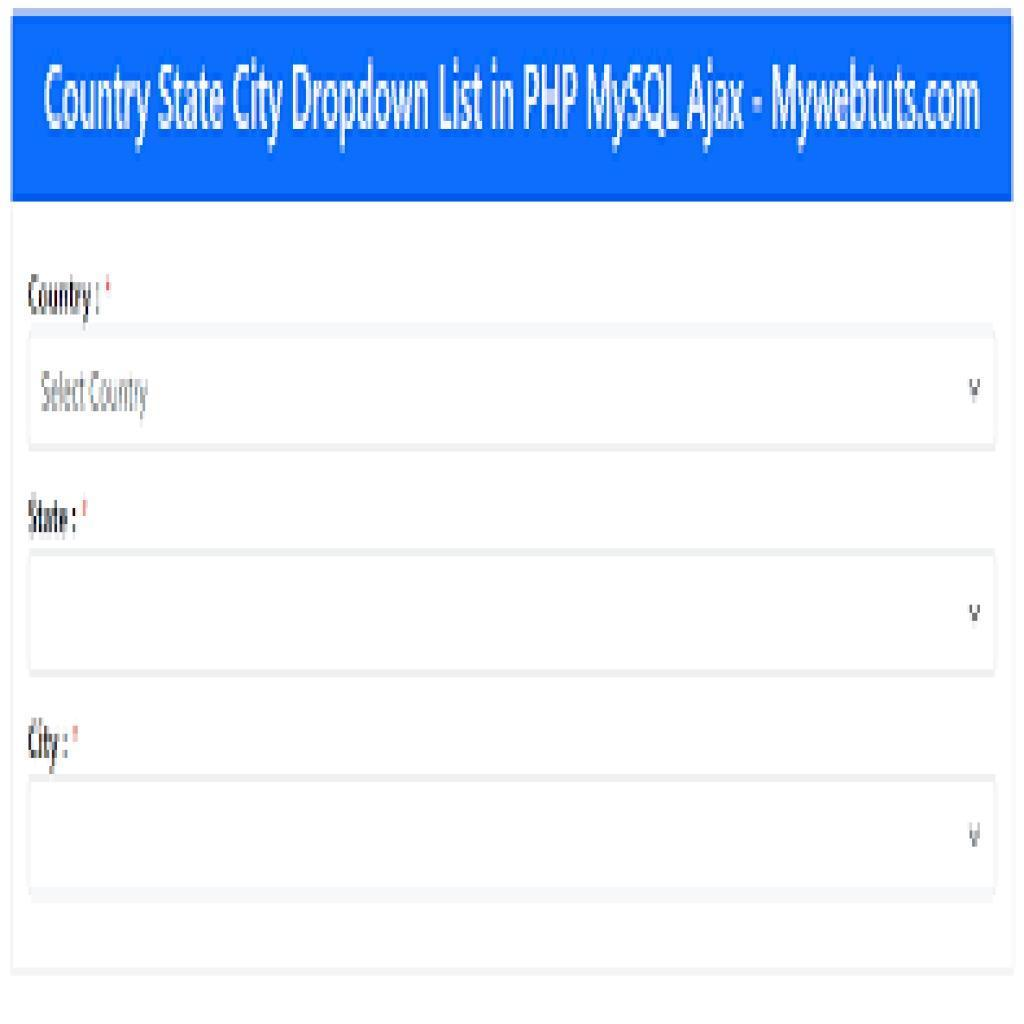dropdown: (24, 547, 1001, 682), (18, 774, 1002, 908), (25, 325, 1002, 455)
